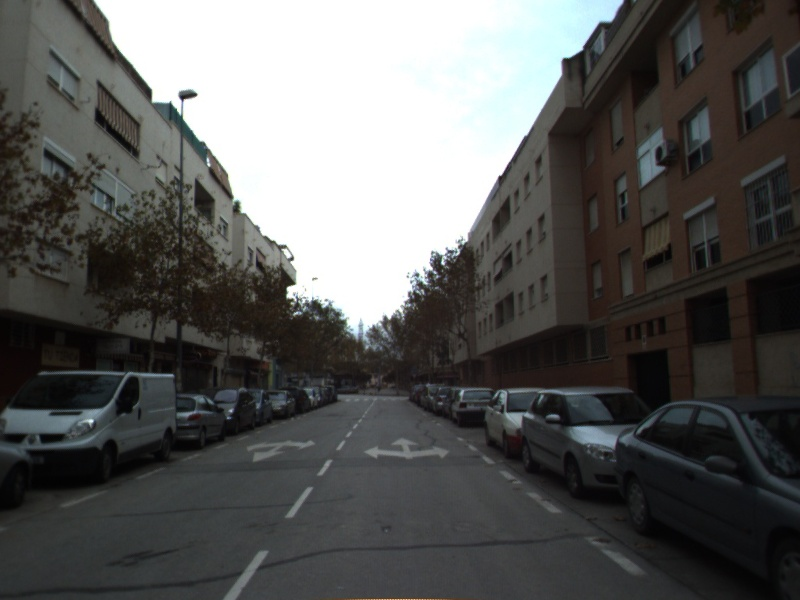STRAIGHT_LEFT_RIGHT: (361, 435, 453, 461)
